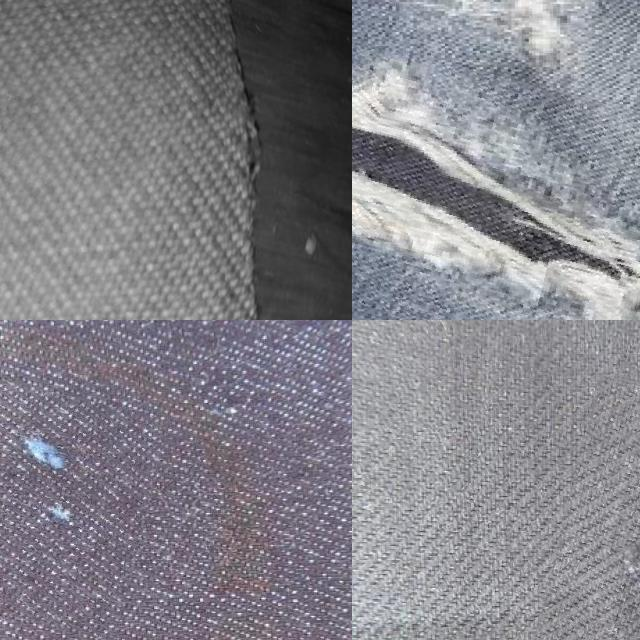other: (352, 48, 640, 320)
stains: (0, 375, 158, 628), (528, 377, 640, 640)
